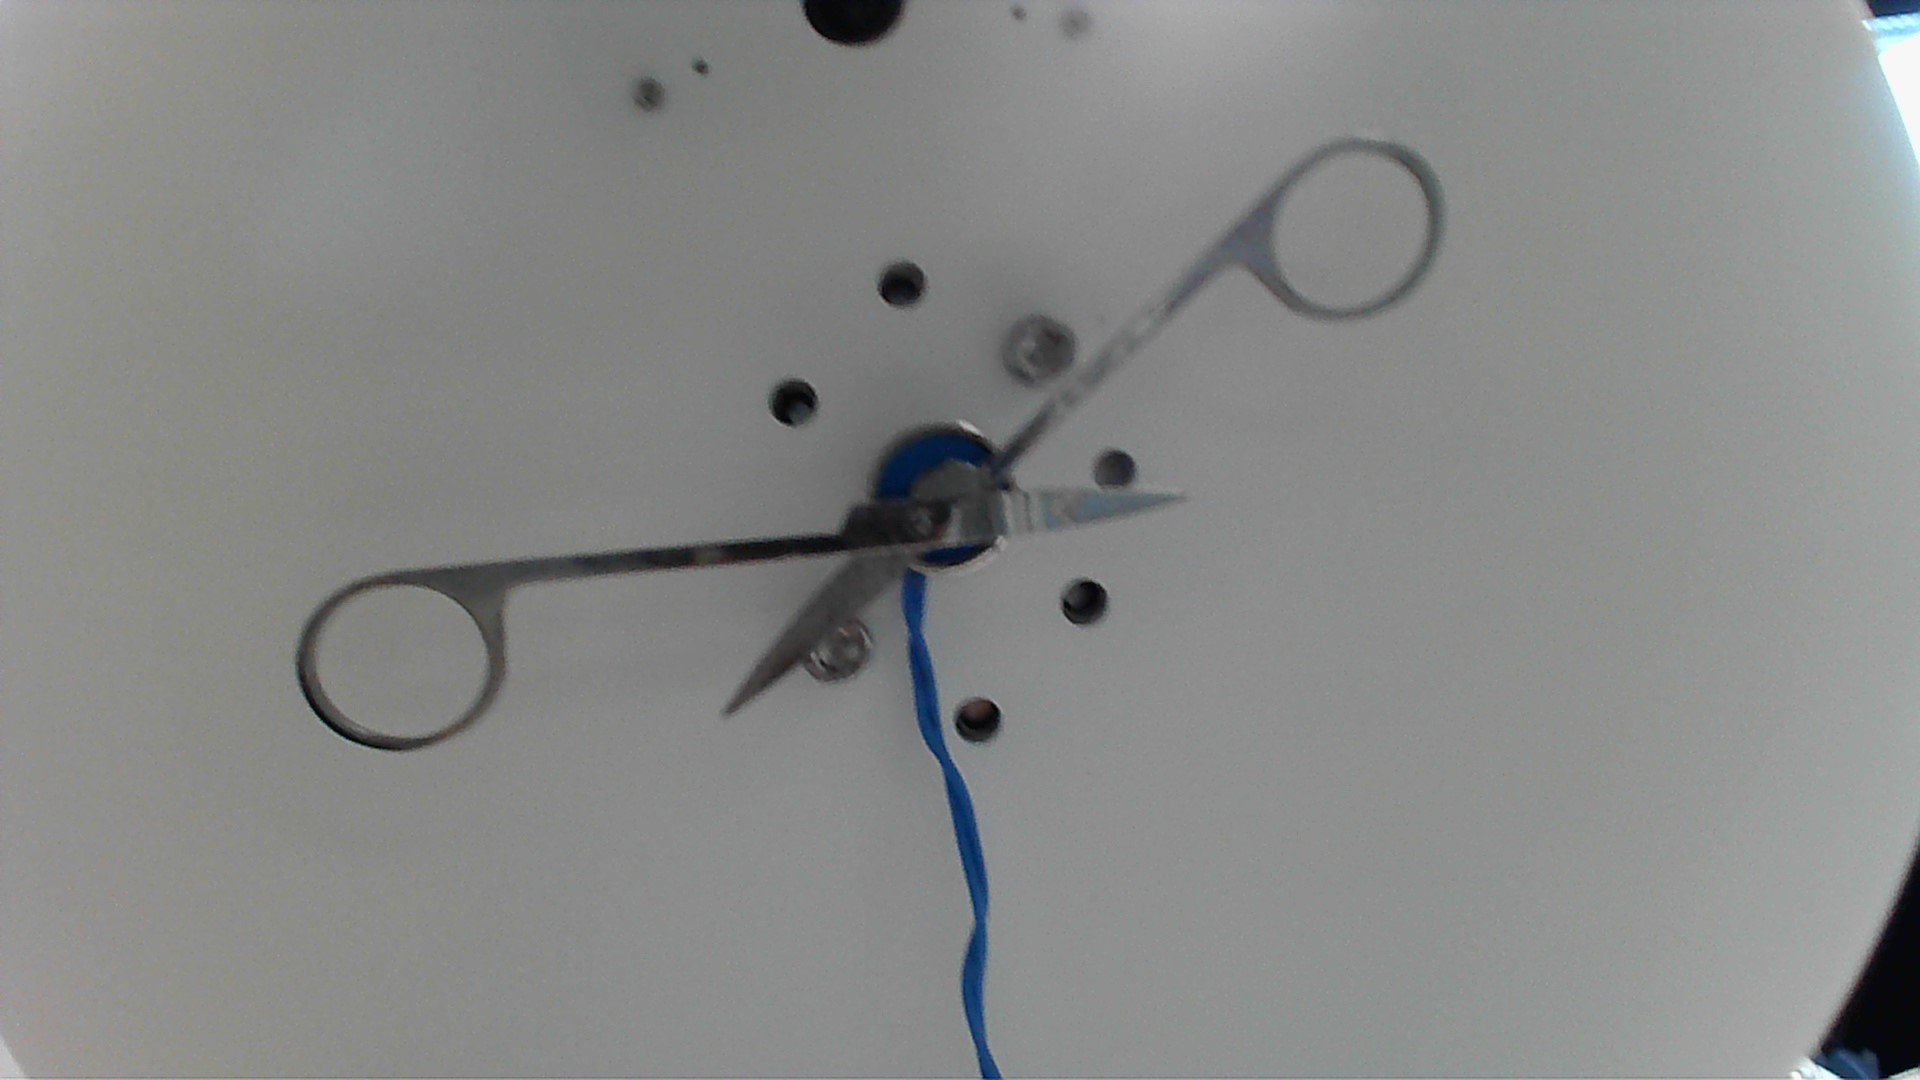Tissues: (1040, 487, 1097, 522)
